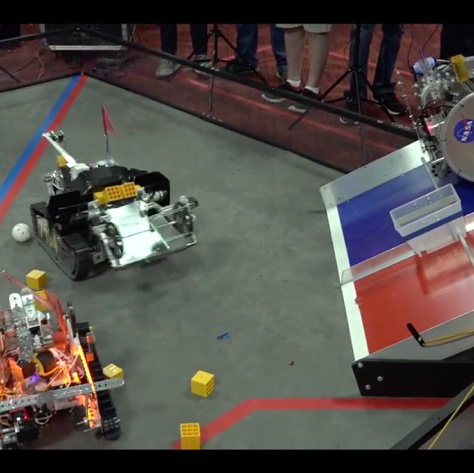robot: (27, 99, 201, 281), (0, 287, 123, 450), (398, 42, 474, 185)
